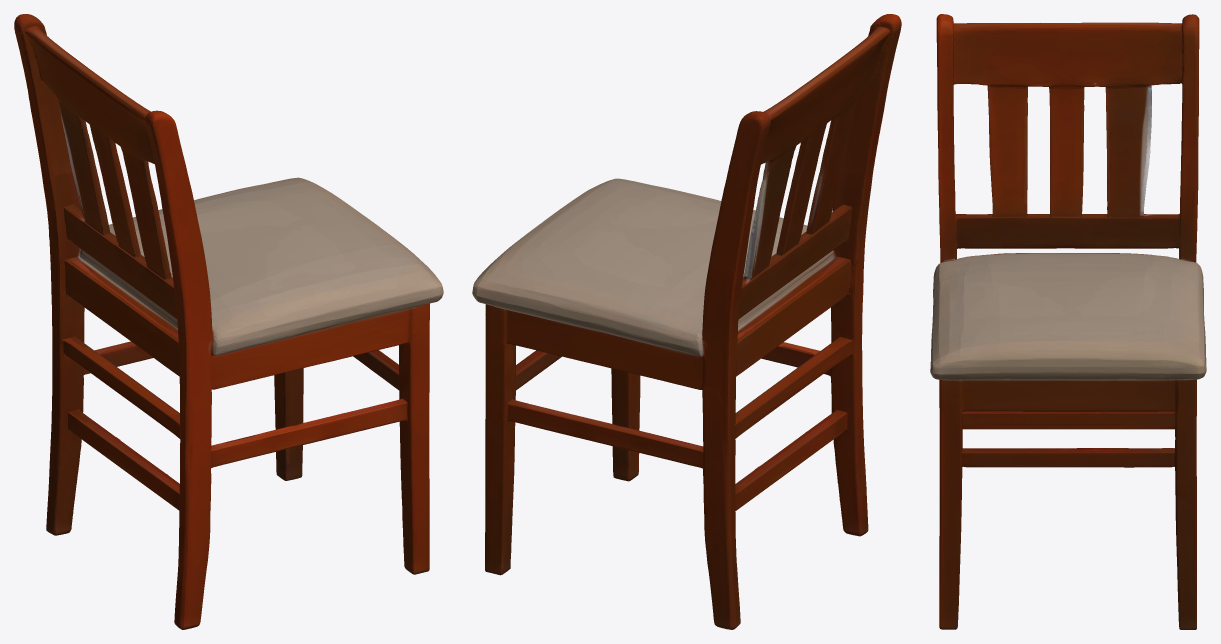
The model's file is dining_chair_0.glb.
3 views of the same model, side by side, from view 1: azimuth 30°, elevation 25°; view 2: azimuth 150°, elevation 25°; view 3: azimuth 270°, elevation 25° (orthographic). The views are drawn at different scales.
Visible parts, largest first — view 1: dining_chair_0.obj; view 2: dining_chair_0.obj; view 3: dining_chair_0.obj.
Boxes of the visible parts, x1,y1,x2,y2 form: dining_chair_0.obj: (14,14,443,629); dining_chair_0.obj: (472,14,901,629); dining_chair_0.obj: (930,14,1206,629).
Size of the model in its own units: 0.5402 by 0.925 by 0.4723.
1 material, 1 textured.
